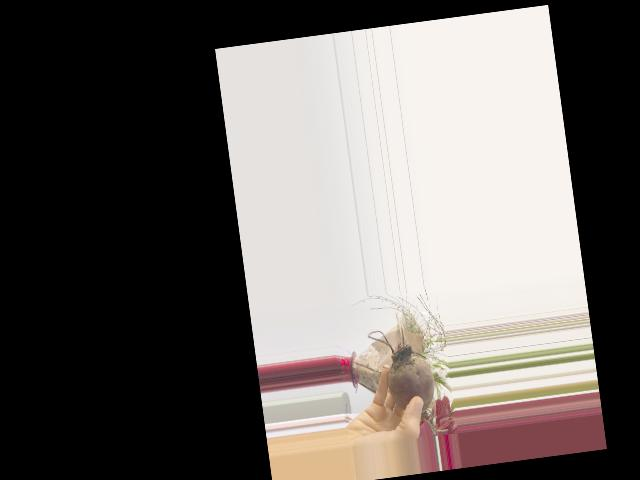beet: (367, 322, 447, 439)
